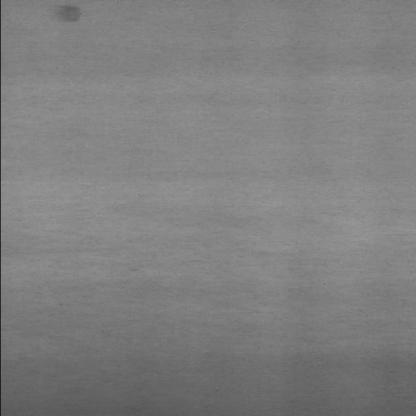oil_spot: (46, 3, 88, 24)
